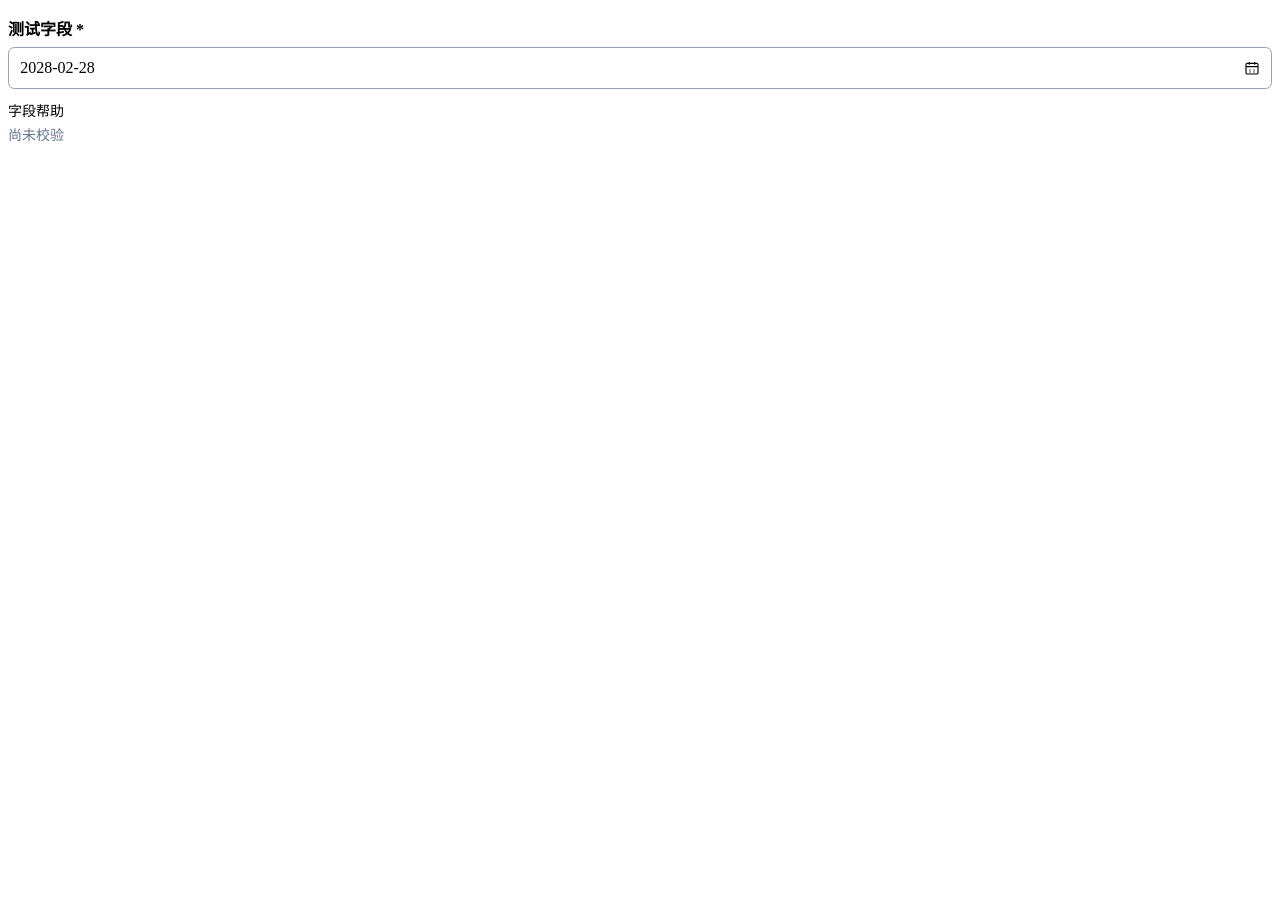
Test case: commits a calendar choice immediately through the form binding
Later steps or results of the test are not shown.
What coordinates should you click on to do the following:
click the button named "测试字段"
I would click on:
 (58, 67)
Its box is [8, 47, 1272, 89].
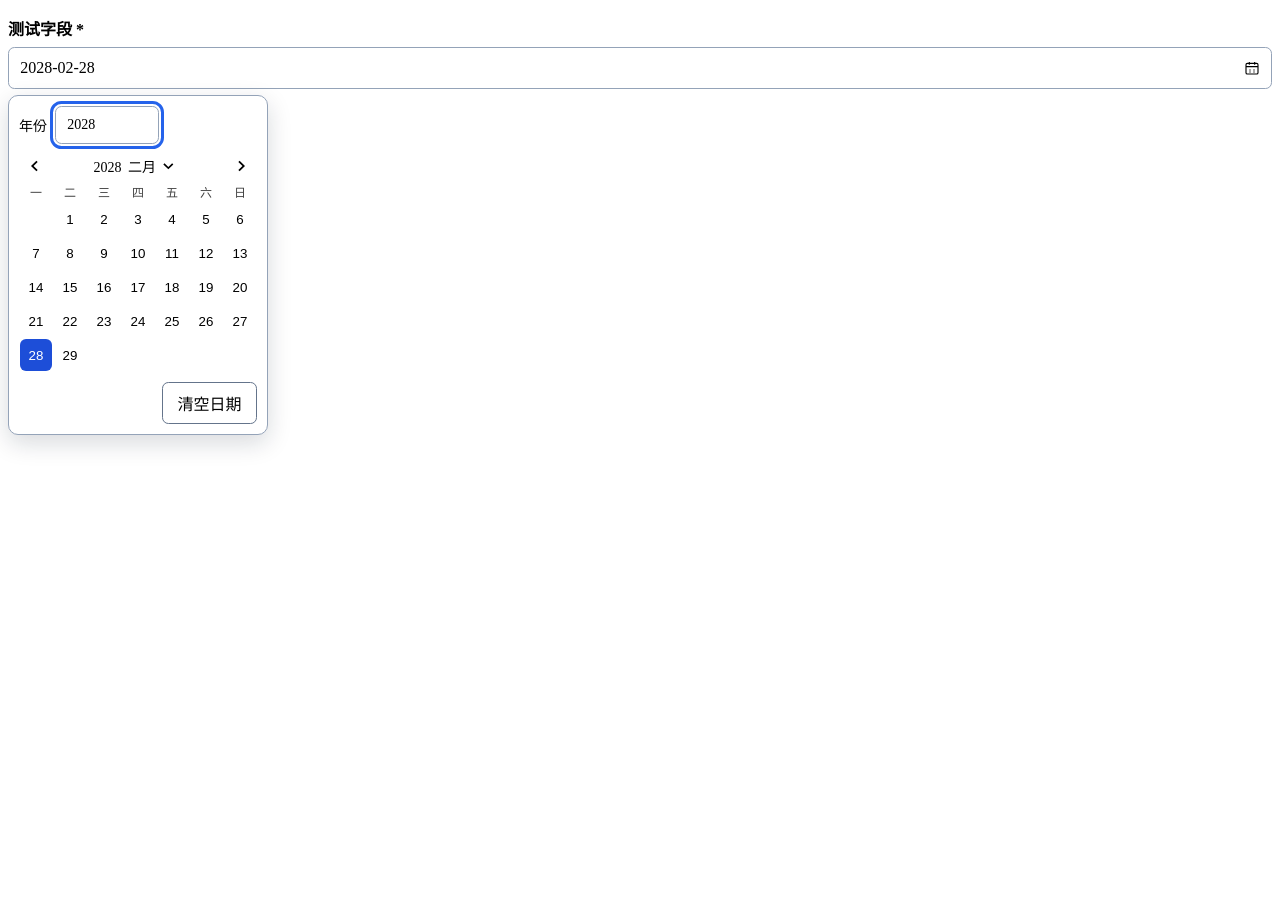
Now the button "29" is enabled, box [54, 339, 86, 371]
